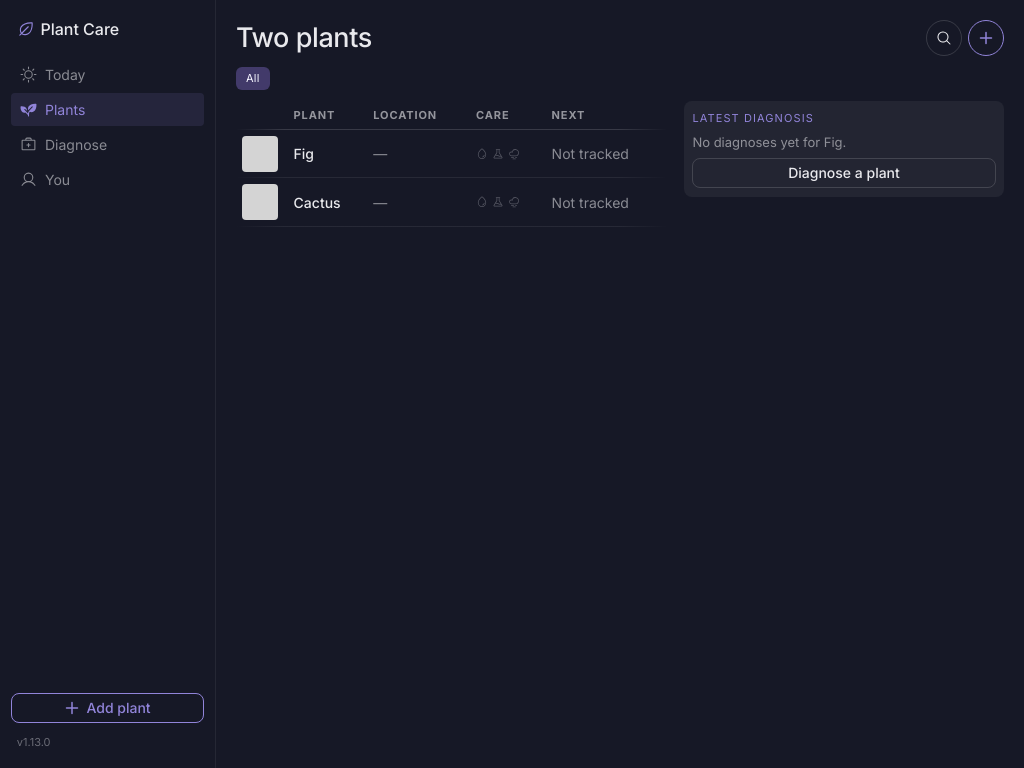
PlantsPage › filters plants by nickname when searching
Click the button named "search".
click(944, 38)  # box [926, 20, 962, 56]
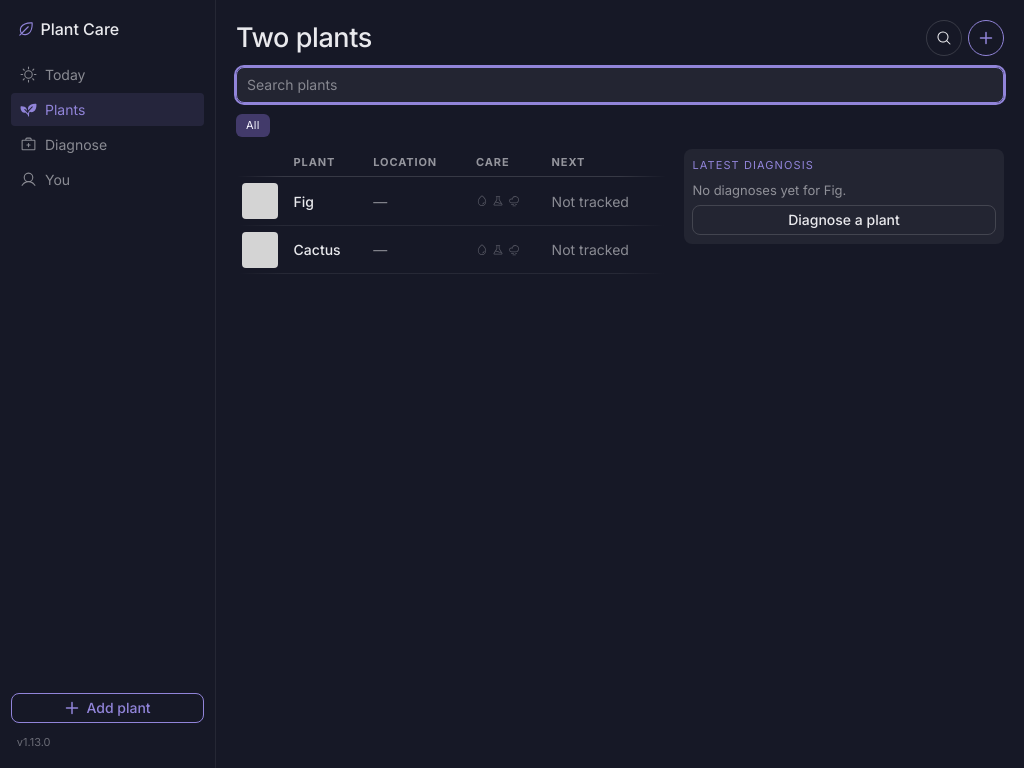
Type "Fig" into the field with placeholder "Search plants".
click(620, 85); type("Fig")  # box [236, 67, 1004, 103]
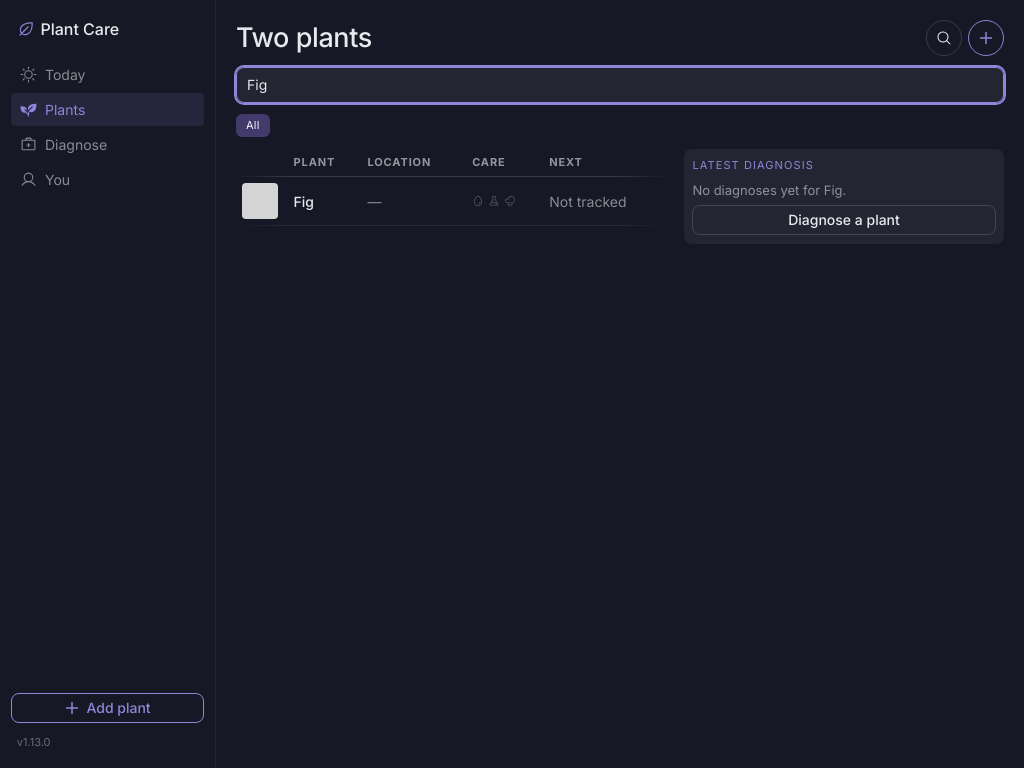
Check: the link "Fig" is shown, box [294, 193, 314, 210]
Check: the link "Cactus" is gone
